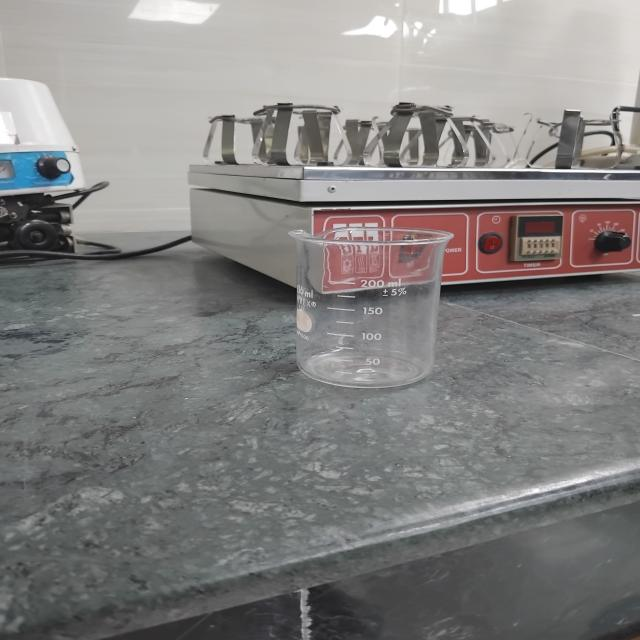Beaker: (259, 204, 480, 396)
